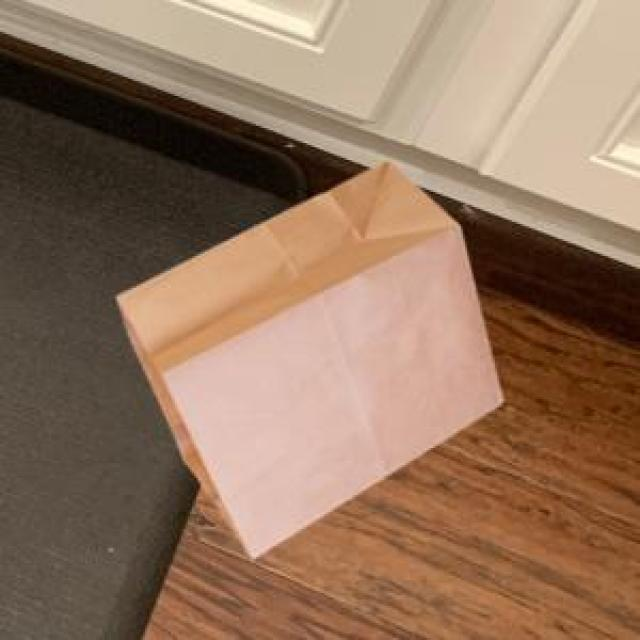paper: (113, 158, 497, 555)
